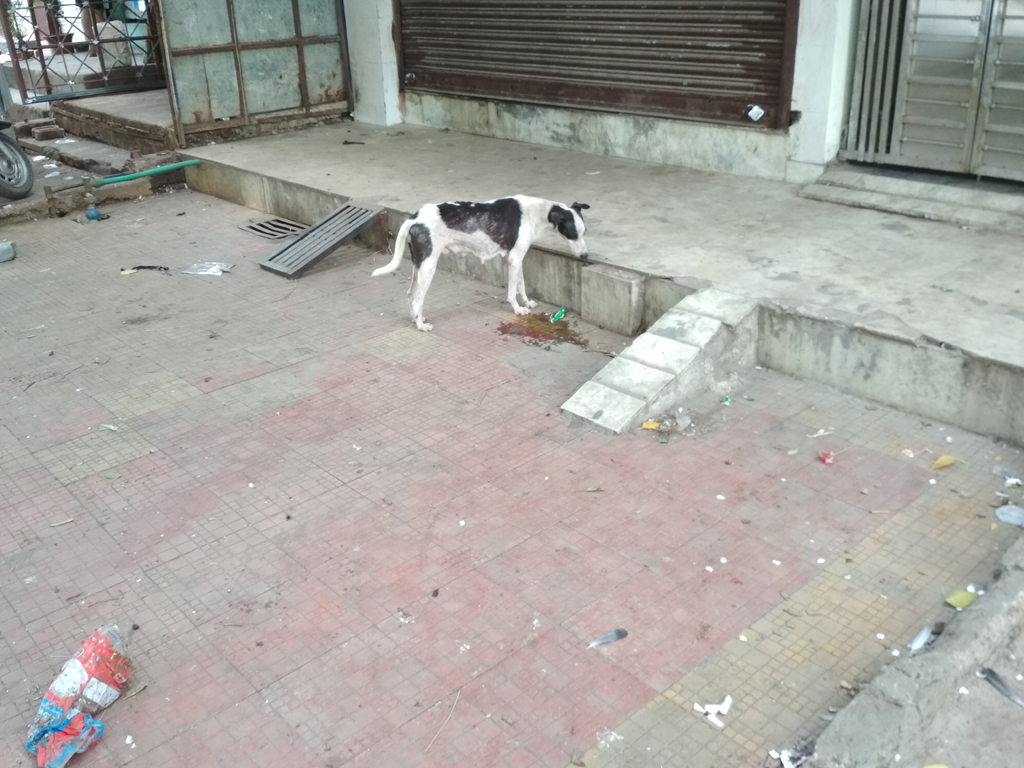dog: (371, 194, 591, 330)
